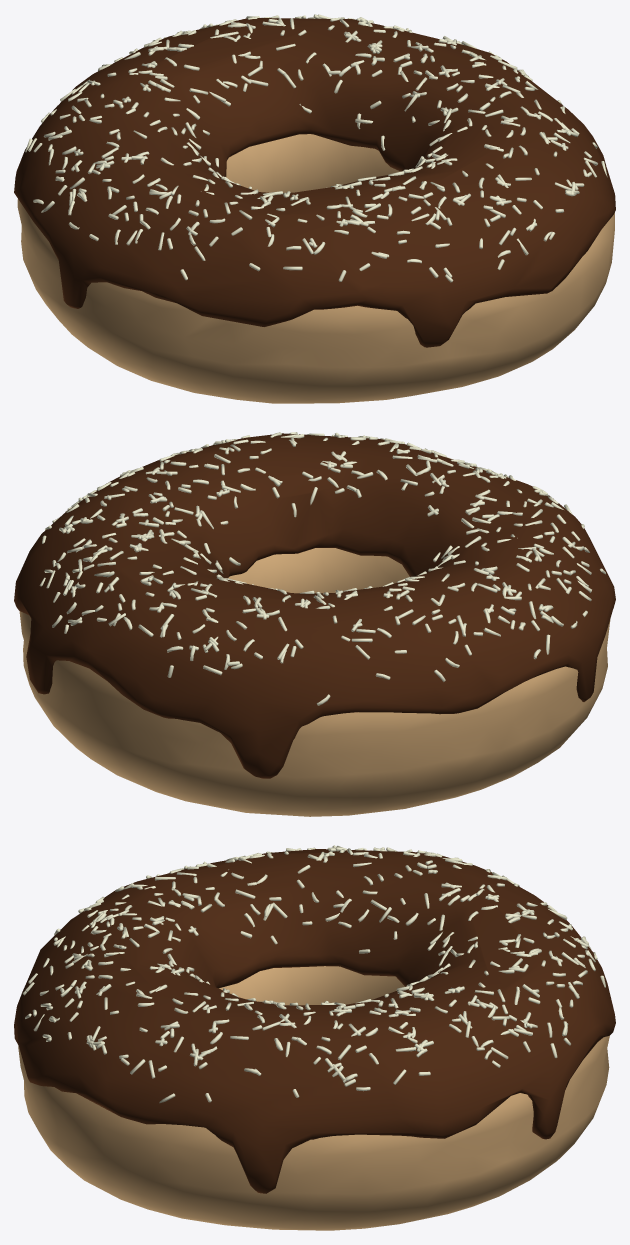
Rendered from deliciousDonut.blender.fbx.
3 views of the same model, one above another, from view 1: azimuth 30°, elevation 25°; view 2: azimuth 150°, elevation 25°; view 3: azimuth 270°, elevation 25° (orthographic).
Parts seen in each view (by area): view 1: Icing, Donut.001; view 2: Icing, Donut.001; view 3: Icing, Donut.001.
Boxes of the visible parts, bbox=[...] form: Icing: bbox=[14, 18, 615, 347]; Donut.001: bbox=[17, 134, 614, 403]; Icing: bbox=[14, 433, 615, 778]; Donut.001: bbox=[19, 548, 610, 816]; Icing: bbox=[14, 849, 615, 1193]; Donut.001: bbox=[18, 966, 609, 1230].
Size of the model in its own units: 15.24 by 5.84 by 15.17.
